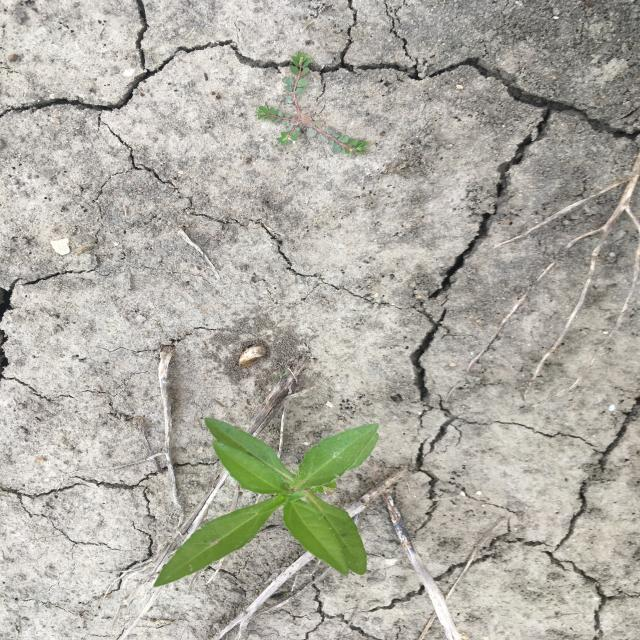Eclipta: (150, 416, 383, 589)
SpottedSpurge: (254, 50, 368, 157)
